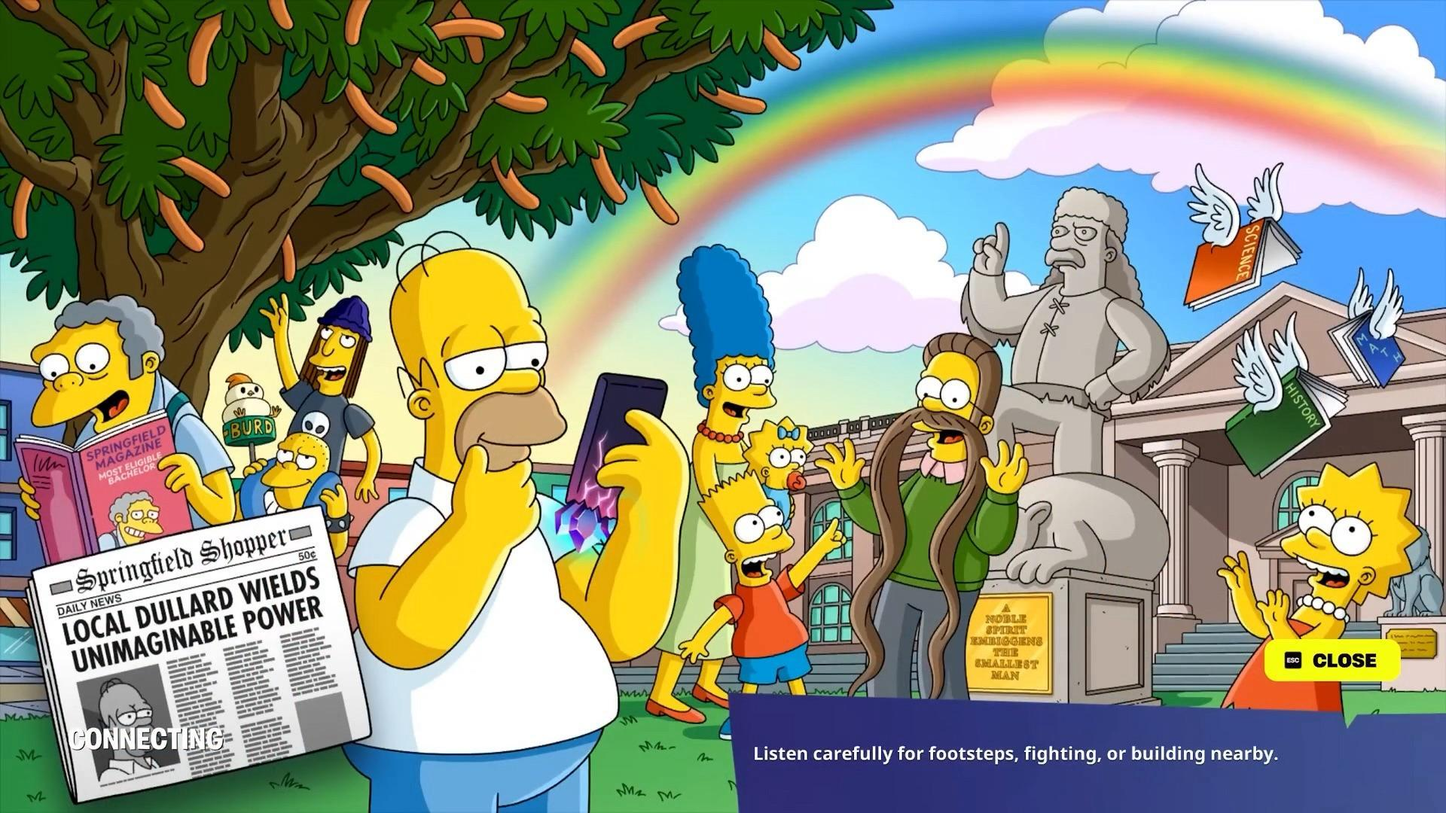Bart: (690, 460, 831, 693)
Homer: (330, 231, 681, 807)
Lisa: (1229, 455, 1441, 714)
Maggie: (735, 411, 827, 507)
Marge: (627, 235, 786, 736)
